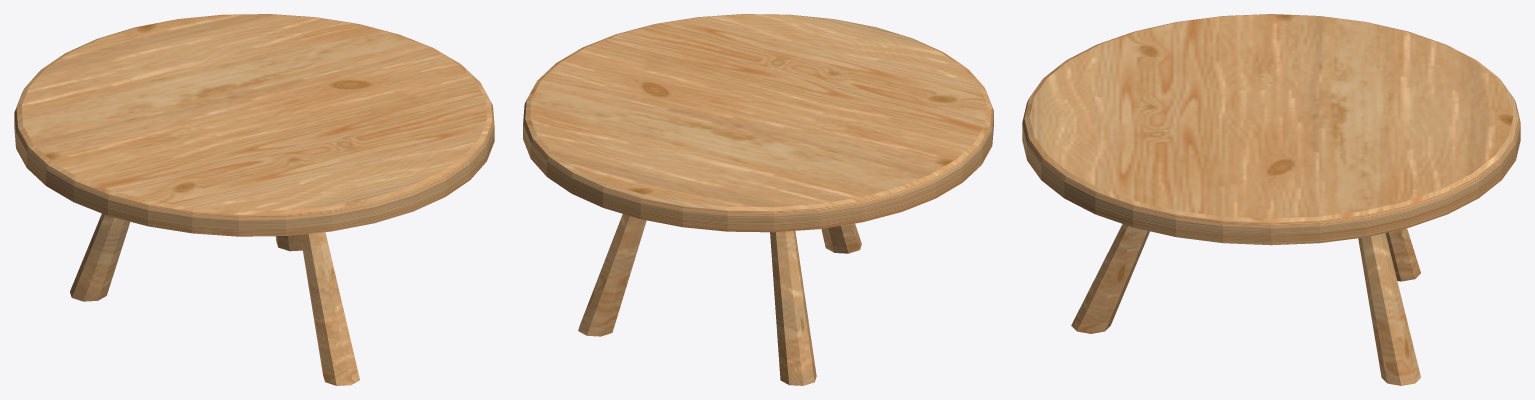
Rendered from mesa_de_centro.fbx.
The picture shows the model from 3 angles, left to right: view 1: azimuth 30°, elevation 25°; view 2: azimuth 150°, elevation 25°; view 3: azimuth 270°, elevation 25°; orthographic projection. The views are drawn at different scales.
Parts seen in each view (by area): view 1: Cylinder, Cylinder.003, Cylinder.002; view 2: Cylinder, Cylinder.002, Cylinder.001, Cylinder.003; view 3: Cylinder, Cylinder.001, Cylinder.003, Cylinder.002.
Boxes of the visible parts, <box> form: Cylinder: <box>14,14,494,236</box>; Cylinder.003: <box>300,232,359,385</box>; Cylinder.002: <box>70,213,130,301</box>; Cylinder: <box>523,14,993,232</box>; Cylinder.002: <box>770,231,816,385</box>; Cylinder.001: <box>578,214,646,336</box>; Cylinder.003: <box>821,223,861,253</box>; Cylinder: <box>1022,14,1520,245</box>; Cylinder.001: <box>1358,233,1420,385</box>; Cylinder.003: <box>1071,224,1149,333</box>; Cylinder.002: <box>1385,228,1420,281</box>.
Bounding box in the file's own units: 307 × 142 × 307.
Materials: 1 (1 with a texture image).
